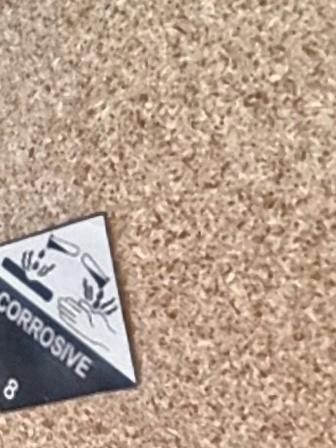corrosive: (1, 208, 142, 425)
